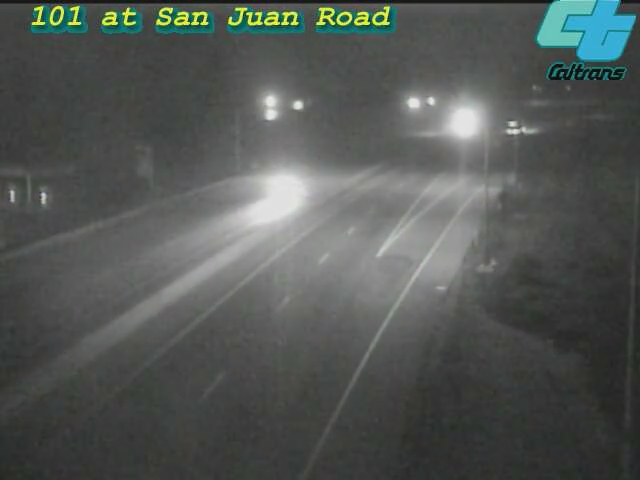vehicle: (236, 151, 316, 231), (439, 97, 489, 147), (493, 103, 543, 153)
